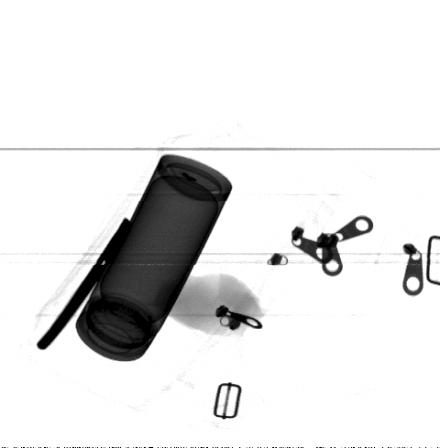Pliers: (35, 216, 136, 352)
